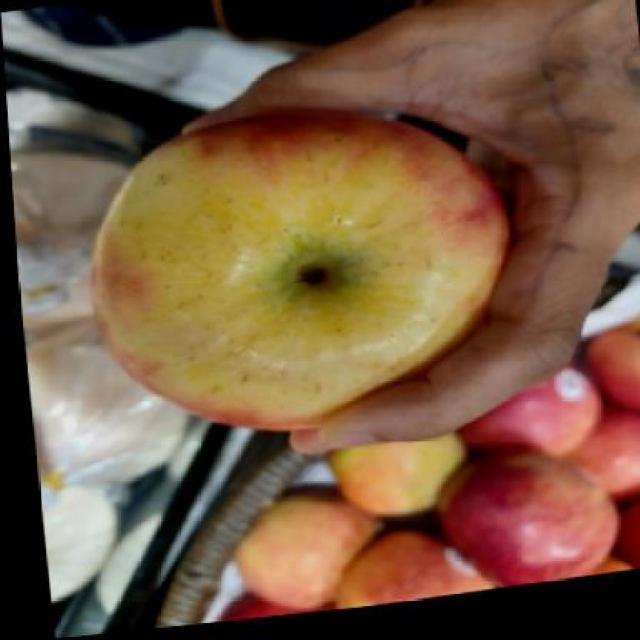Fresh Apple: (108, 109, 510, 426)
